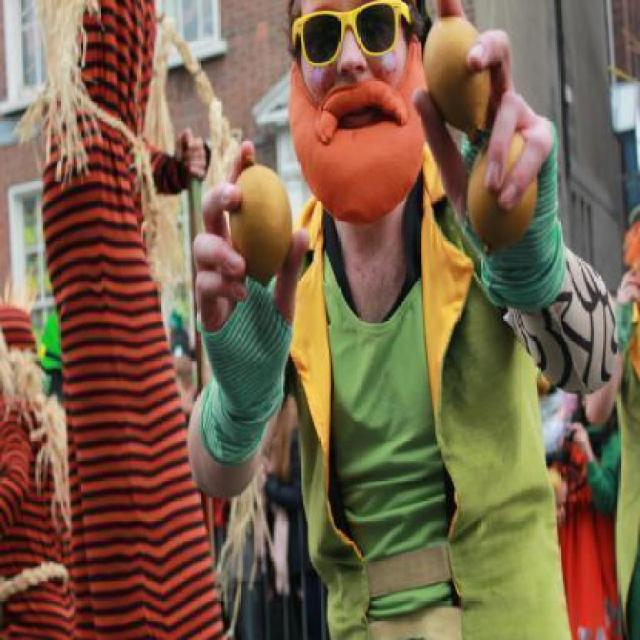glasses: (298, 7, 404, 55)
hand_noglove: (175, 141, 328, 339), (454, 21, 561, 210)
person: (173, 0, 619, 640)
